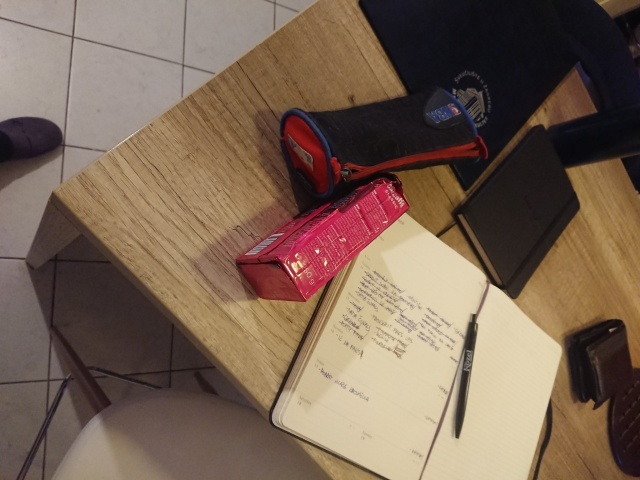Barcaffe Classic Original 225g: (233, 170, 412, 305)
